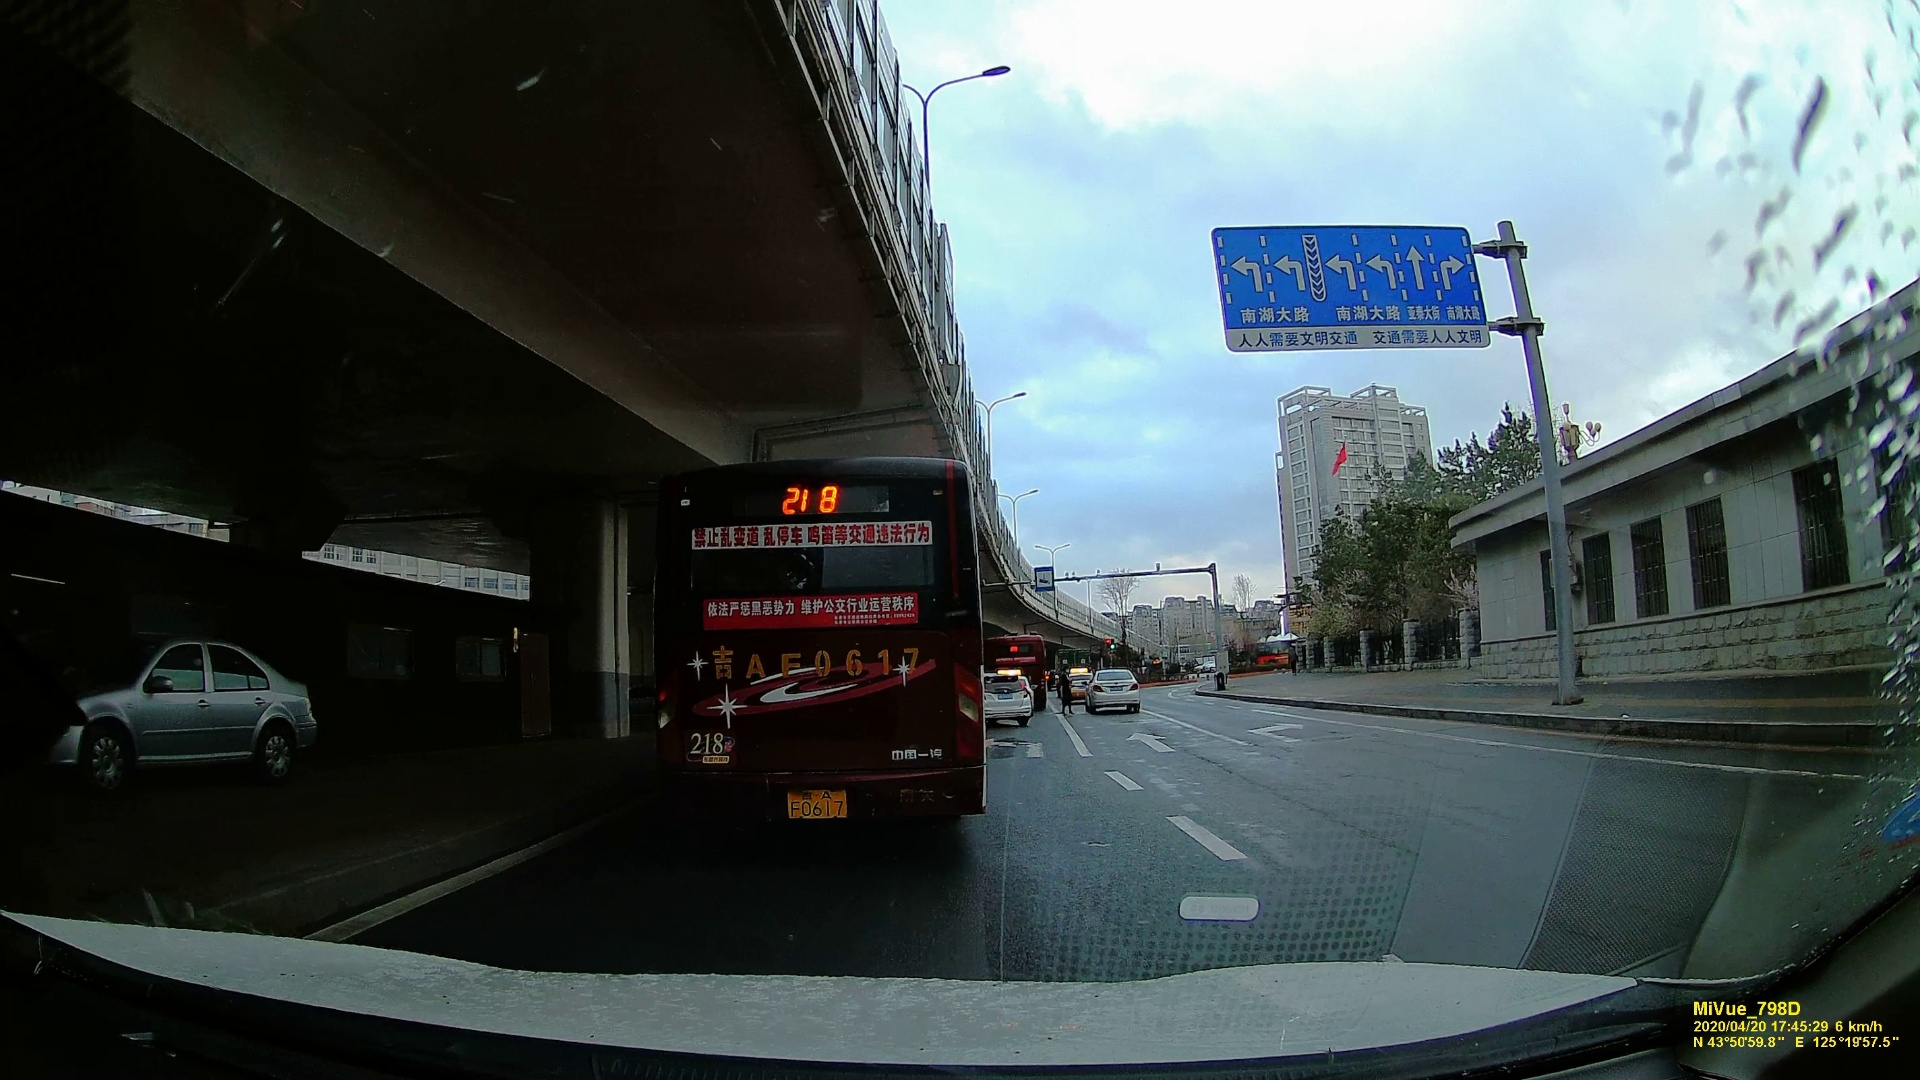bus: (676, 458, 983, 820)
person: (1059, 660, 1070, 714), (1286, 648, 1299, 674)
traffic_sign: (1219, 225, 1471, 356), (1034, 569, 1049, 587)
vehicle: (66, 639, 315, 782), (979, 672, 1035, 723), (1088, 669, 1140, 714)
